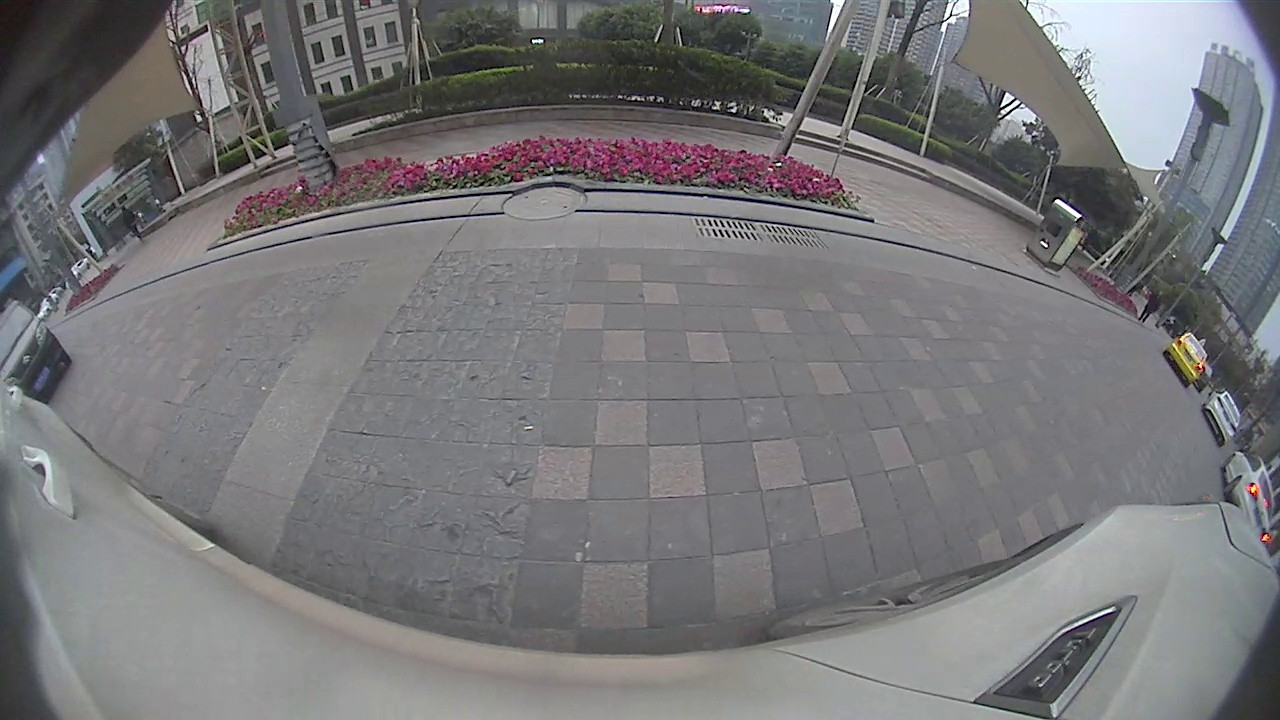car: (2, 299, 72, 405), (1163, 329, 1210, 388), (1200, 386, 1243, 448)
